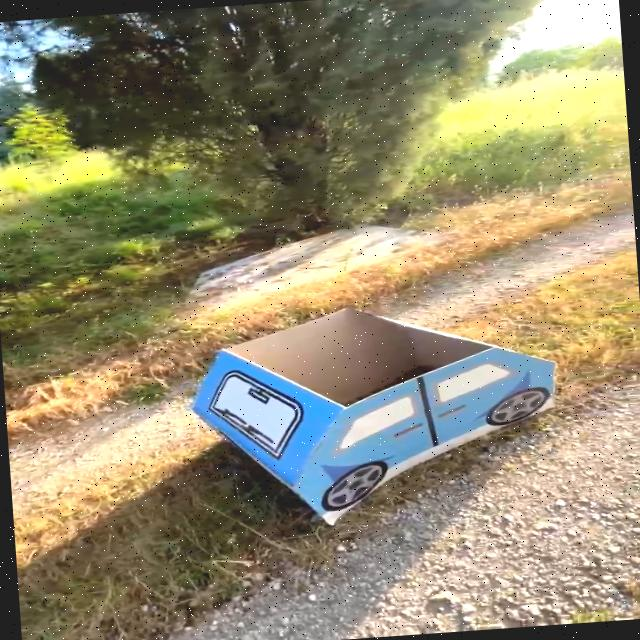blue_car: (138, 276, 592, 562)
